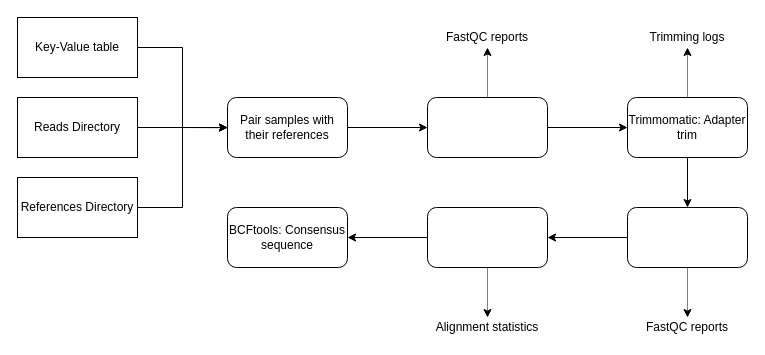
Image size: 765x355. Some labels were removed from this diagram. Here are the shapes that lost their labels. From the top down, the centre of each, then its label:
the point at 487,127: FastQC: Raw
the point at 487,237: BWA-mem: Align reads
the point at 687,237: FastQC: Trimmed
